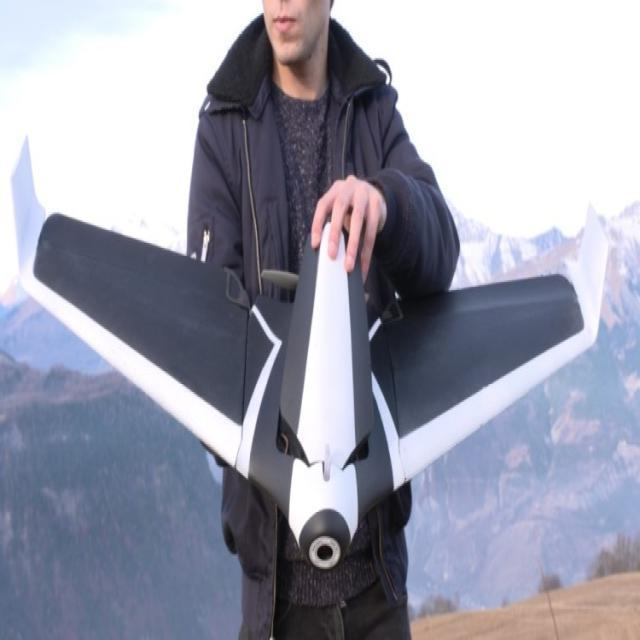iha: (17, 194, 615, 583)
